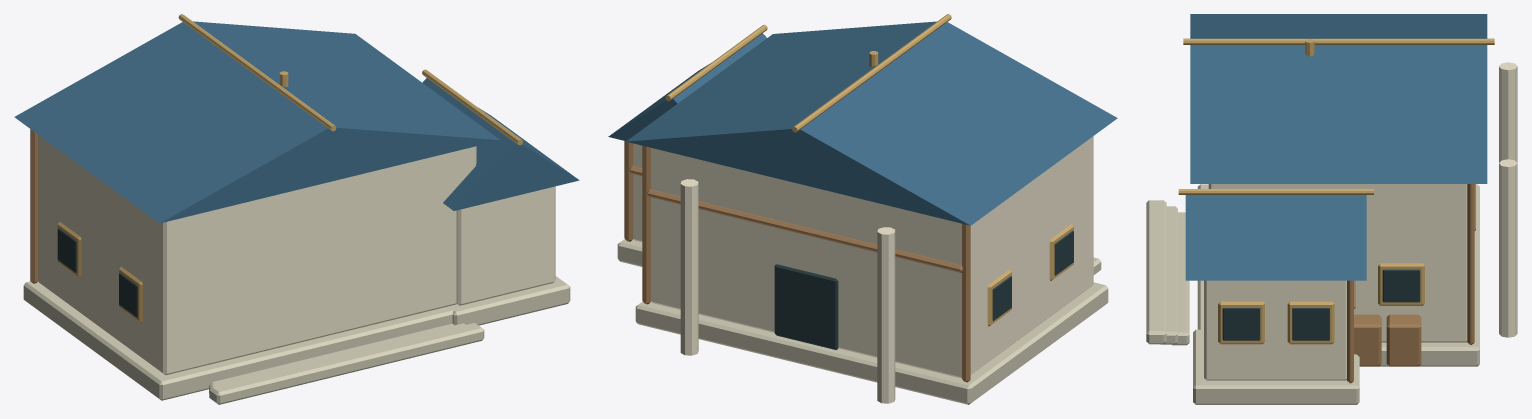
The model's file is level_21.glb.
3 views of the same model, side by side, from view 1: azimuth 30°, elevation 25°; view 2: azimuth 150°, elevation 25°; view 3: azimuth 270°, elevation 25° (orthographic). The views are drawn at different scales.
Parts seen in each view (by area): view 1: warehouse — level 21; view 2: warehouse — level 21; view 3: warehouse — level 21.
Boxes of the visible parts, x1,y1,x2,y2 form: warehouse — level 21: (14,14,579,404); warehouse — level 21: (608,14,1117,404); warehouse — level 21: (1146,14,1517,404).
Size of the model in its own units: 6.8 by 3.82 by 5.13.
